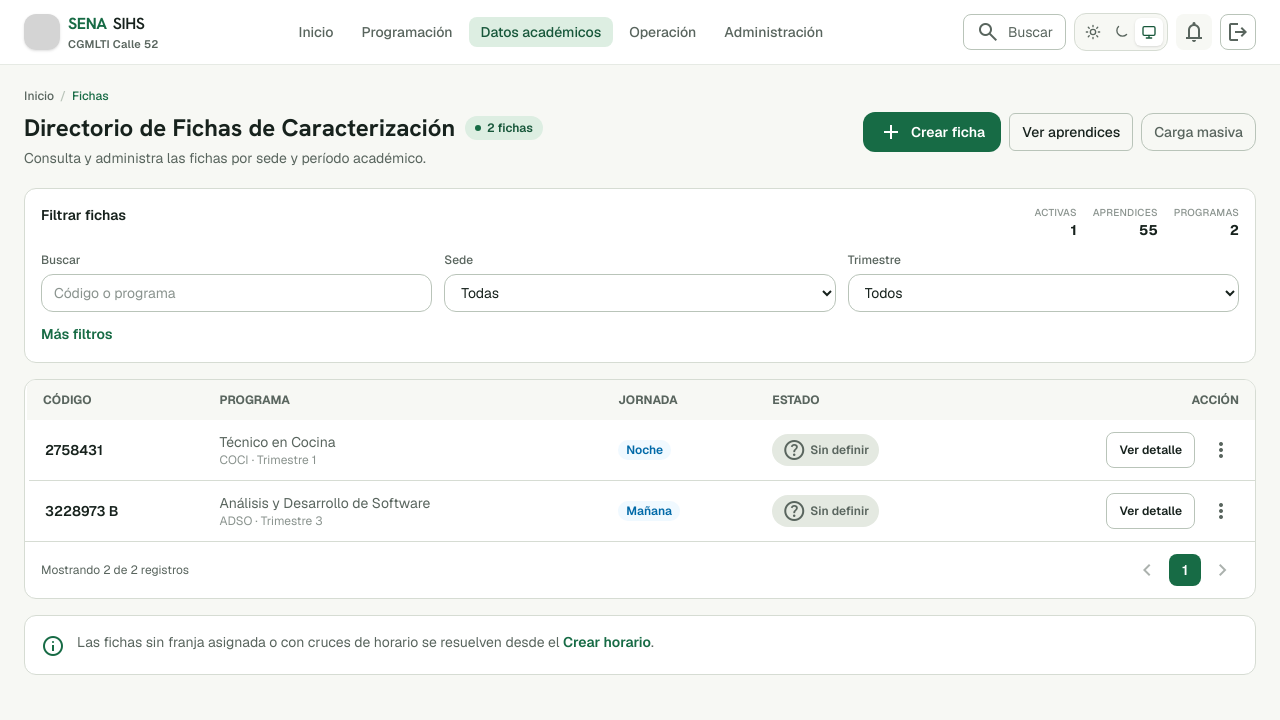
Test: Fichas › botón "Cerrar" del drawer oculta el panel de detalle
Click the text "3228973 B" at (115, 511), box [27, 480, 204, 541]
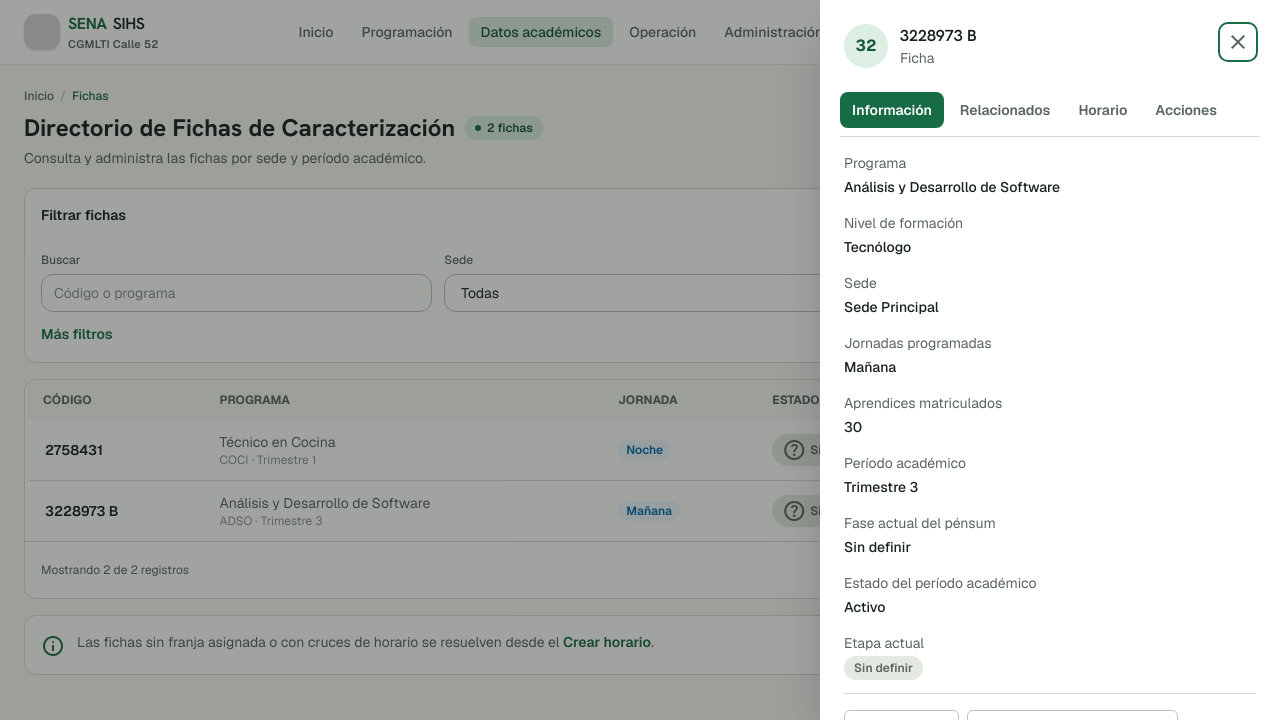
Result: the dialog is shown at [820, 0, 1279, 719]
Click the button named "Cerrar" at (1238, 42), box [1220, 24, 1256, 60]
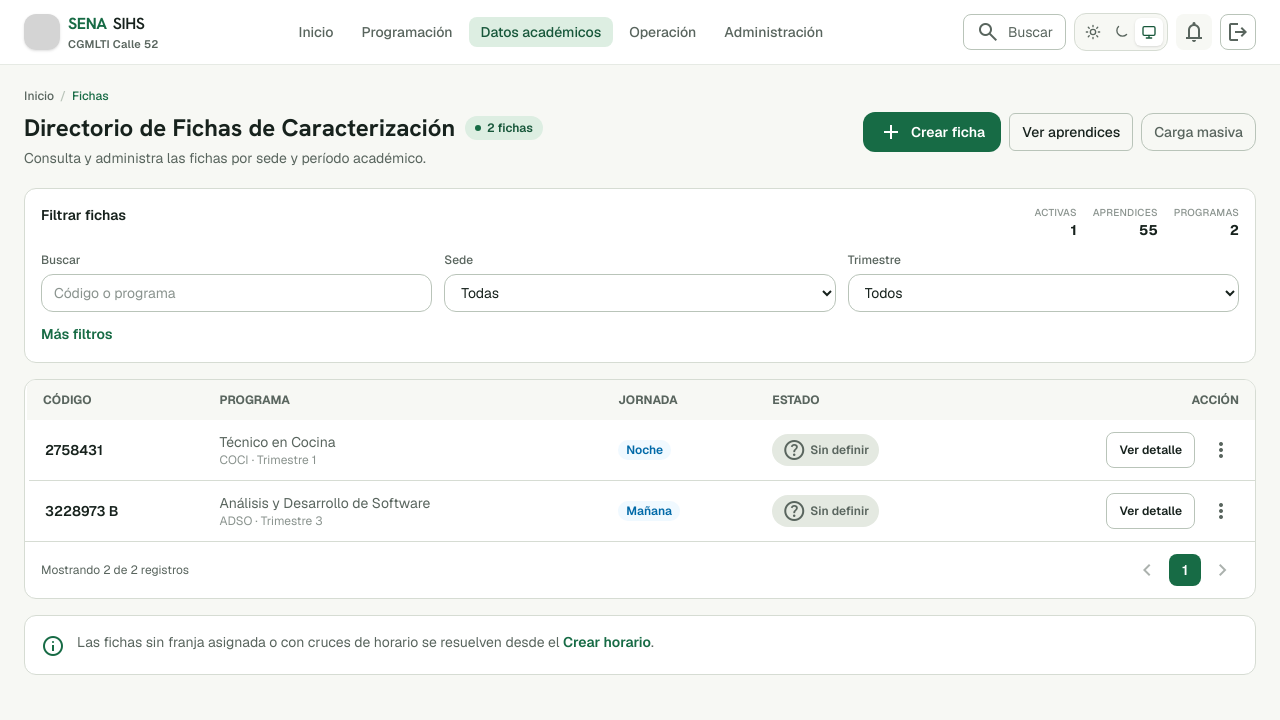
Result: the dialog is gone
